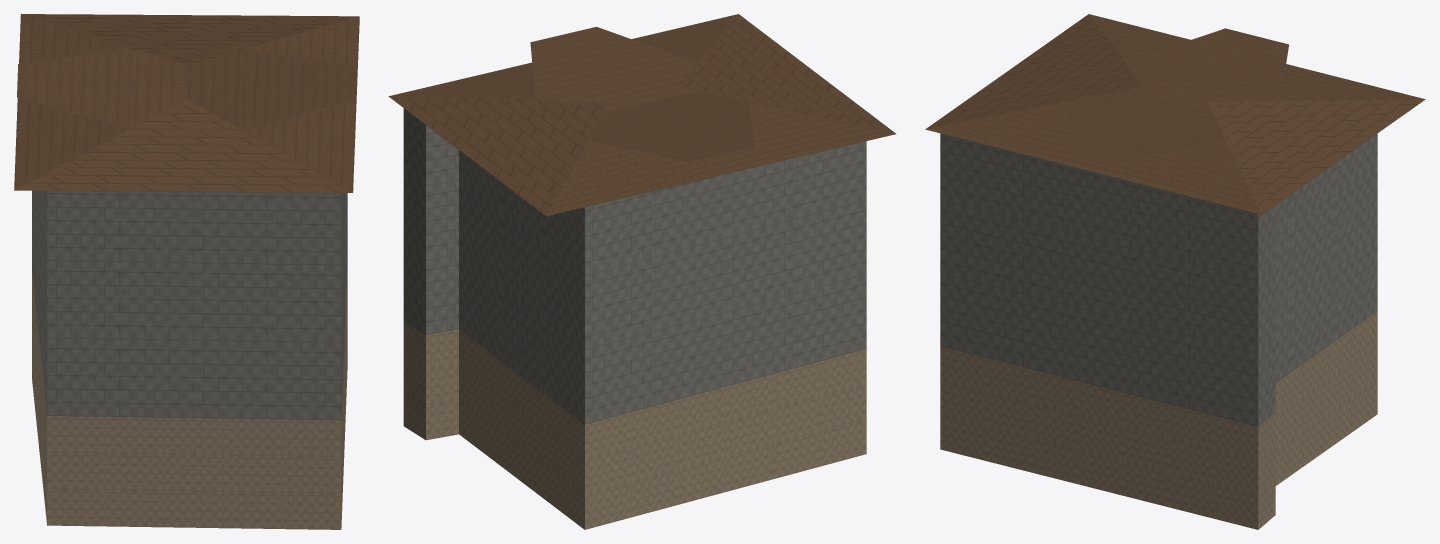
File: bld_c39_36_288.gltf
3 renders of one model, left to right at view 1: azimuth 30°, elevation 25°; view 2: azimuth 150°, elevation 25°; view 3: azimuth 270°, elevation 25°, orthographic. The views are drawn at different scales.
Parts seen in each view (by area): view 1: bld_c39_36_288; view 2: bld_c39_36_288; view 3: bld_c39_36_288.
Boxes of the visible parts, left/top/right/bottom form: bld_c39_36_288: left=14, top=14, right=359, bottom=529; bld_c39_36_288: left=388, top=14, right=895, bottom=529; bld_c39_36_288: left=925, top=14, right=1425, bottom=529.
Size of the model in its own units: 21.3 by 16.9 by 22.44.
3 materials, 3 textured.
